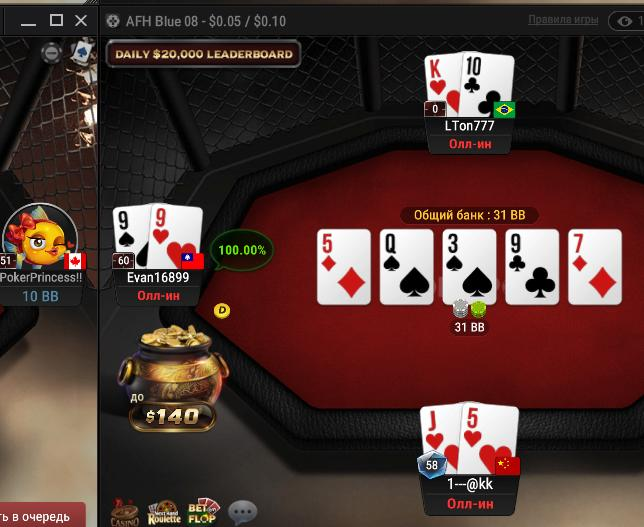10c: (461, 51, 514, 116)
3s: (443, 229, 497, 304)
5d: (316, 230, 371, 305)
5h: (461, 401, 519, 476)
7d: (568, 229, 622, 305)
9c: (506, 229, 559, 305)
9h: (149, 202, 203, 269)
9s: (113, 202, 151, 271)
Jh: (419, 405, 460, 476)
Kh: (424, 52, 461, 119)
Qs: (380, 229, 434, 305)
